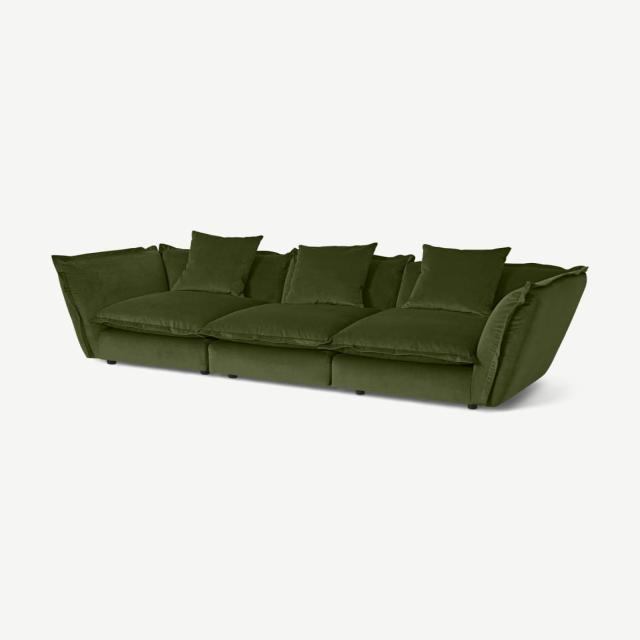back_cushion: (159, 231, 566, 316)
left_arm: (470, 267, 587, 406)
legs: (228, 374, 238, 378), (106, 360, 116, 364), (356, 390, 364, 395), (200, 370, 209, 374), (469, 405, 476, 408)
right_arm: (51, 246, 168, 357)
seat_cushion: (89, 292, 487, 367)
stallion-sofa: (0, 0, 639, 639)
